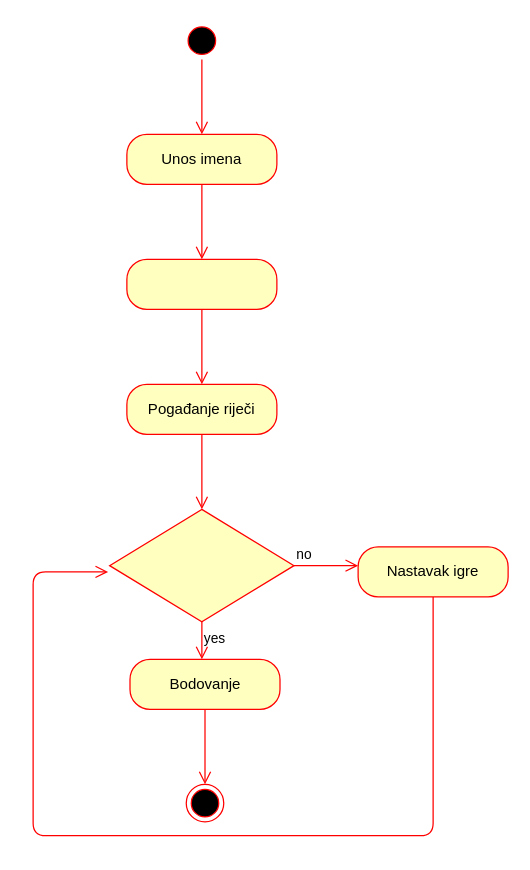
Some shapes in this 530 by 870 pixel diagram are drawn without their labels. Each missing label, with the centre of its shape:
"Generiranje zagonetki" goes at point 201,283.
"Igrač je pogodio sva slova" goes at point 201,565.
